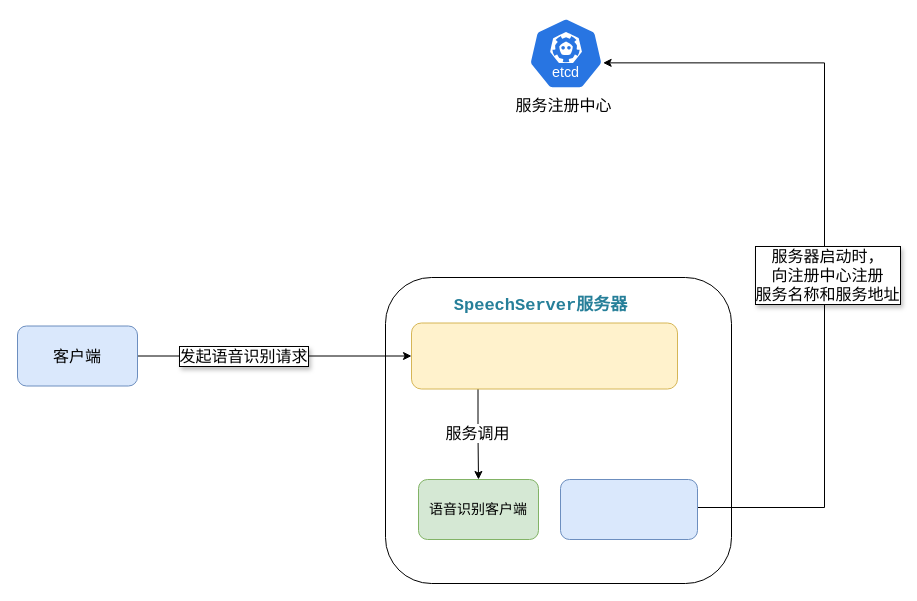
This 917x601 diagram has some shape labels left out. The centre of each missing label's shape, as x and y in pixels:
etcd服务注册客户端: (629,509)
RPC服务器: (544,355)
